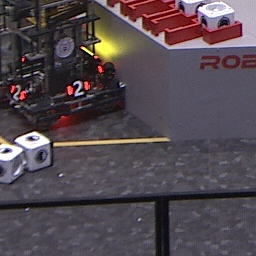Red: (64, 79, 92, 97), (7, 83, 27, 102)
Robot: (1, 1, 127, 126)
